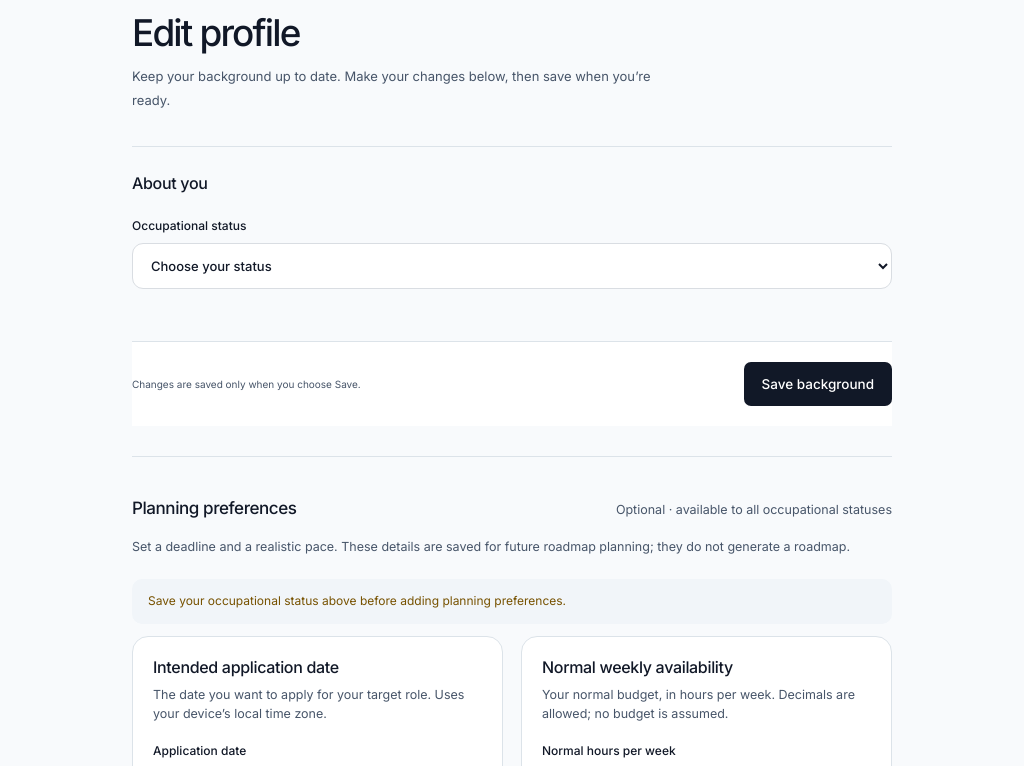
it: initial pageshow cannot restart profile loading or erase an unsaved status choice
Expected: the button "Save background" is enabled, [744,362,892,406]
Select "Student" in the dropdown labelled "Occupational status" at (512, 266), box [132,243,892,289]
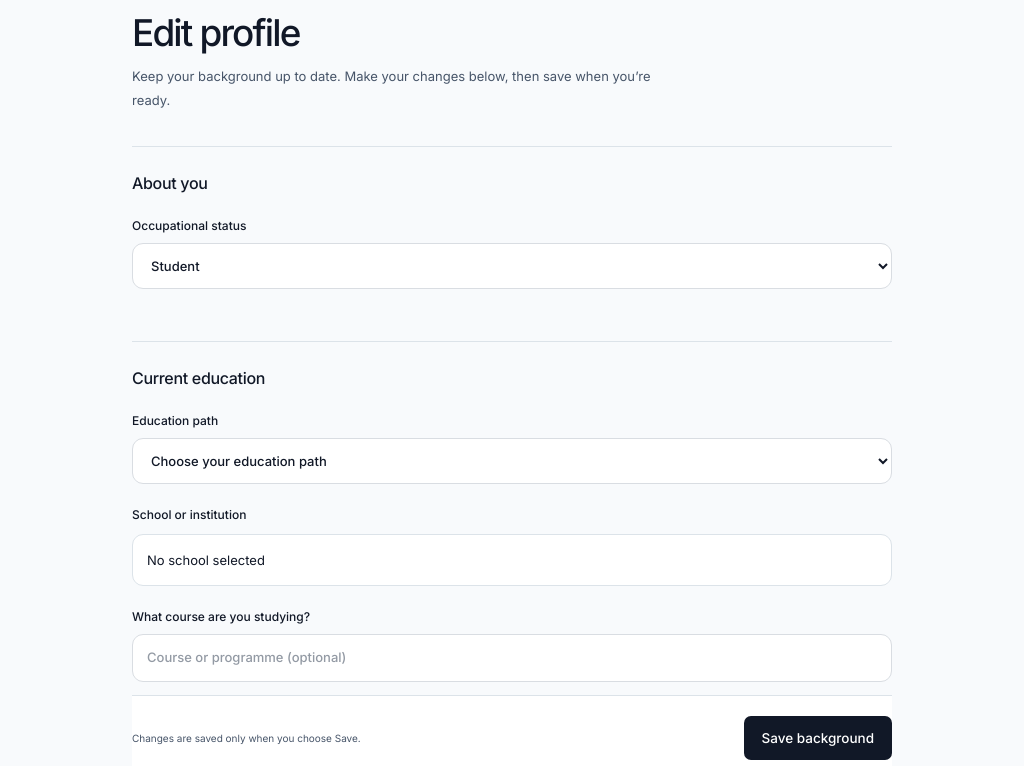
Expected: the button "Save background" is enabled, [744,716,892,760]
Expected: the text "Current education" is shown, [132,368,265,388]
